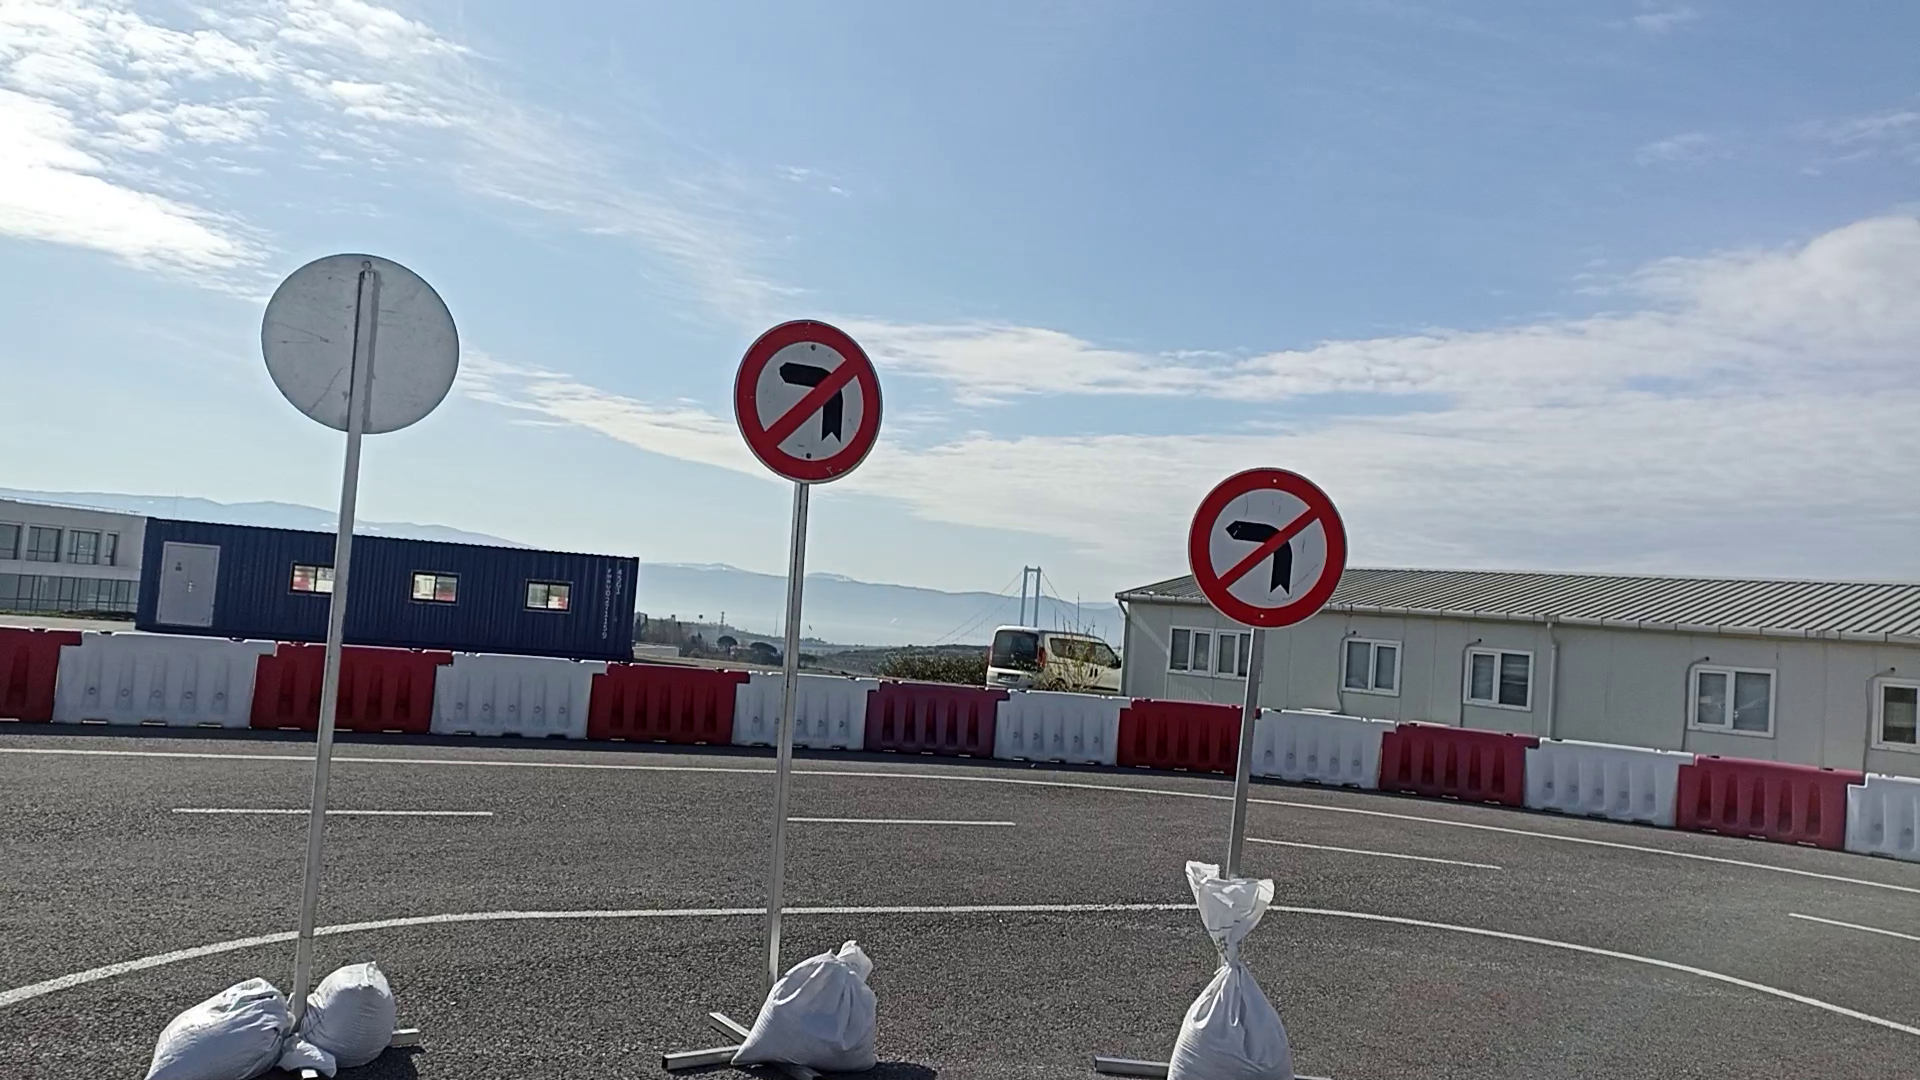noleft: (1185, 464, 1354, 630), (731, 316, 885, 484)
